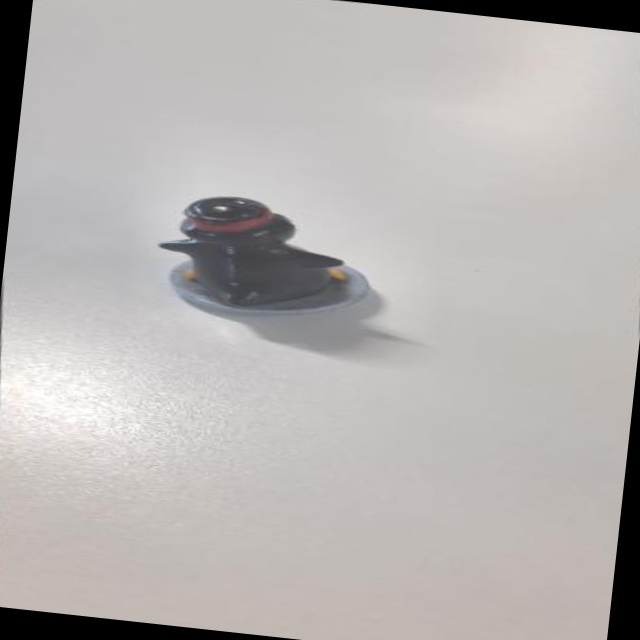Penguin: (147, 182, 386, 336)
